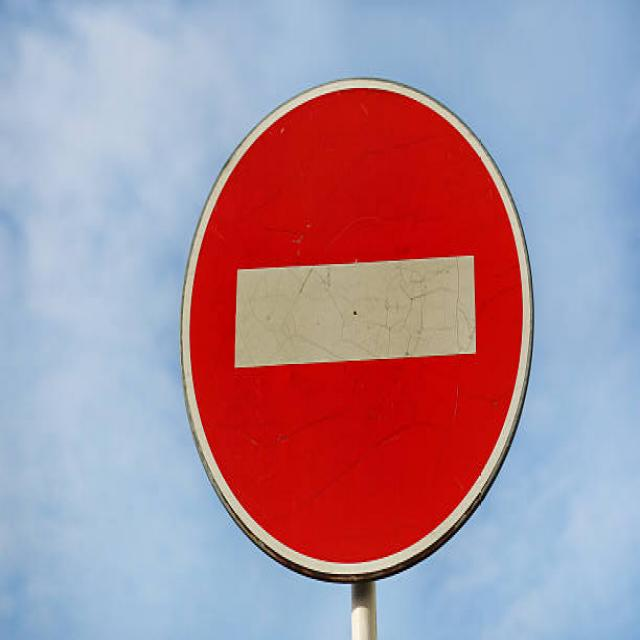do_not_enter: (175, 65, 541, 583)
